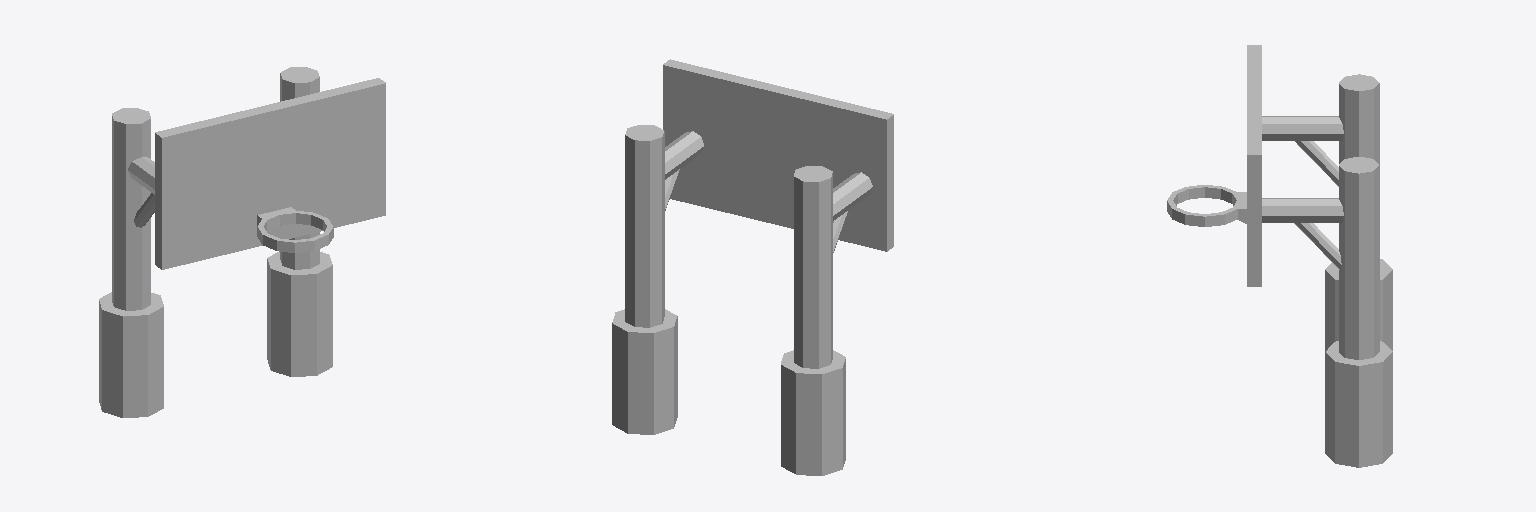
Rendered from basket.obj.
The picture shows the model from 3 angles: view 1: azimuth 30°, elevation 25°; view 2: azimuth 150°, elevation 25°; view 3: azimuth 270°, elevation 25°; orthographic projection.
Visible parts, largest first — view 1: BasketBall_Board; view 2: BasketBall_Board; view 3: BasketBall_Board.
Boxes of the visible parts, <box> form: BasketBall_Board: <box>99,67,385,417</box>; BasketBall_Board: <box>612,59,893,475</box>; BasketBall_Board: <box>1167,45,1392,467</box>.
Bounding box in the file's own units: 3.9 × 5.12 × 3.34.